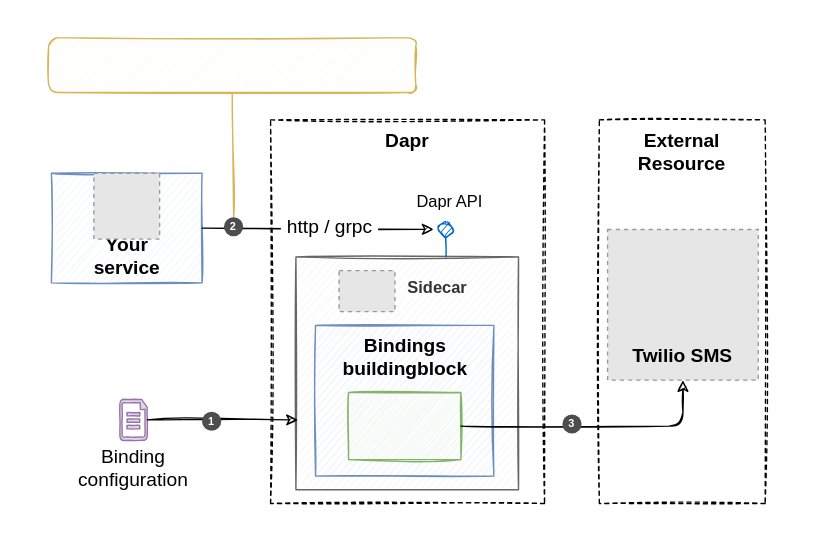
Some shapes in this 814 by 547 pixel diagram are drawn without their labels. Grey dashed boxes stand in for pictures. The centre of each missing label's shape, as x and y in pixels:
"POST http://localhost:3500/v1.0/bindings/sms" belongs at (x=231, y=64).
"Twilio SMS component" belongs at (x=404, y=425).
